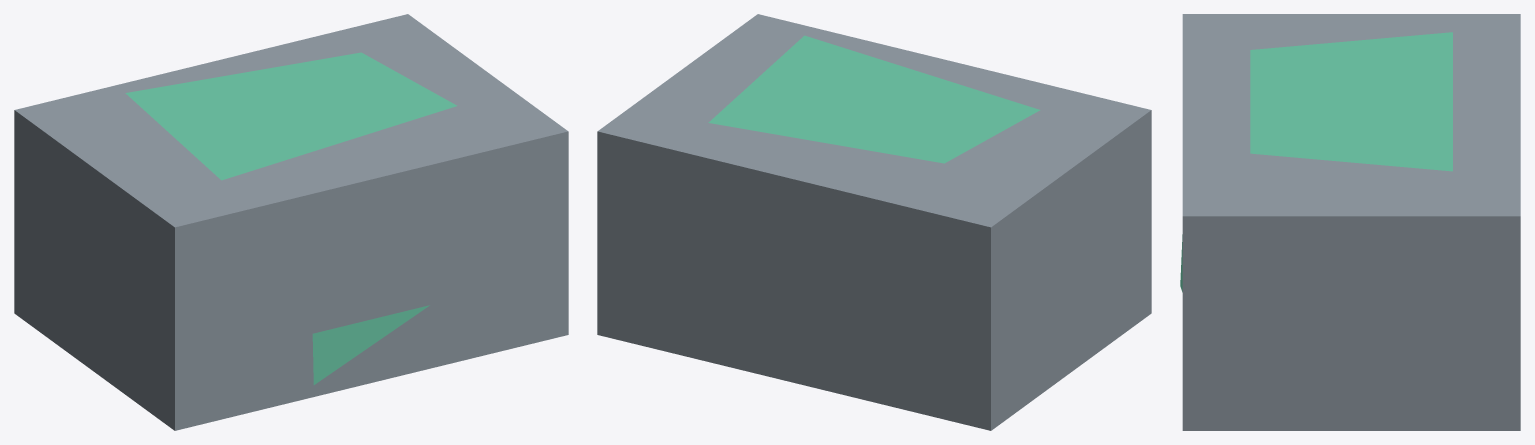
The model's file is CO_AiravataWalker_LOD1.glb.
The picture shows the model from 3 angles, left to right: view 1: azimuth 30°, elevation 25°; view 2: azimuth 150°, elevation 25°; view 3: azimuth 270°, elevation 25°; orthographic projection. The views are drawn at different scales.
Parts seen in each view (by area): view 1: EntranceGate; view 2: EntranceGate; view 3: EntranceGate.
Part boxes in pixels (x1,y1,x2,y2): EntranceGate: (14, 14, 568, 430); EntranceGate: (597, 14, 1151, 430); EntranceGate: (1180, 14, 1520, 430).
Size of the model in its own units: 680 by 371 by 483.
